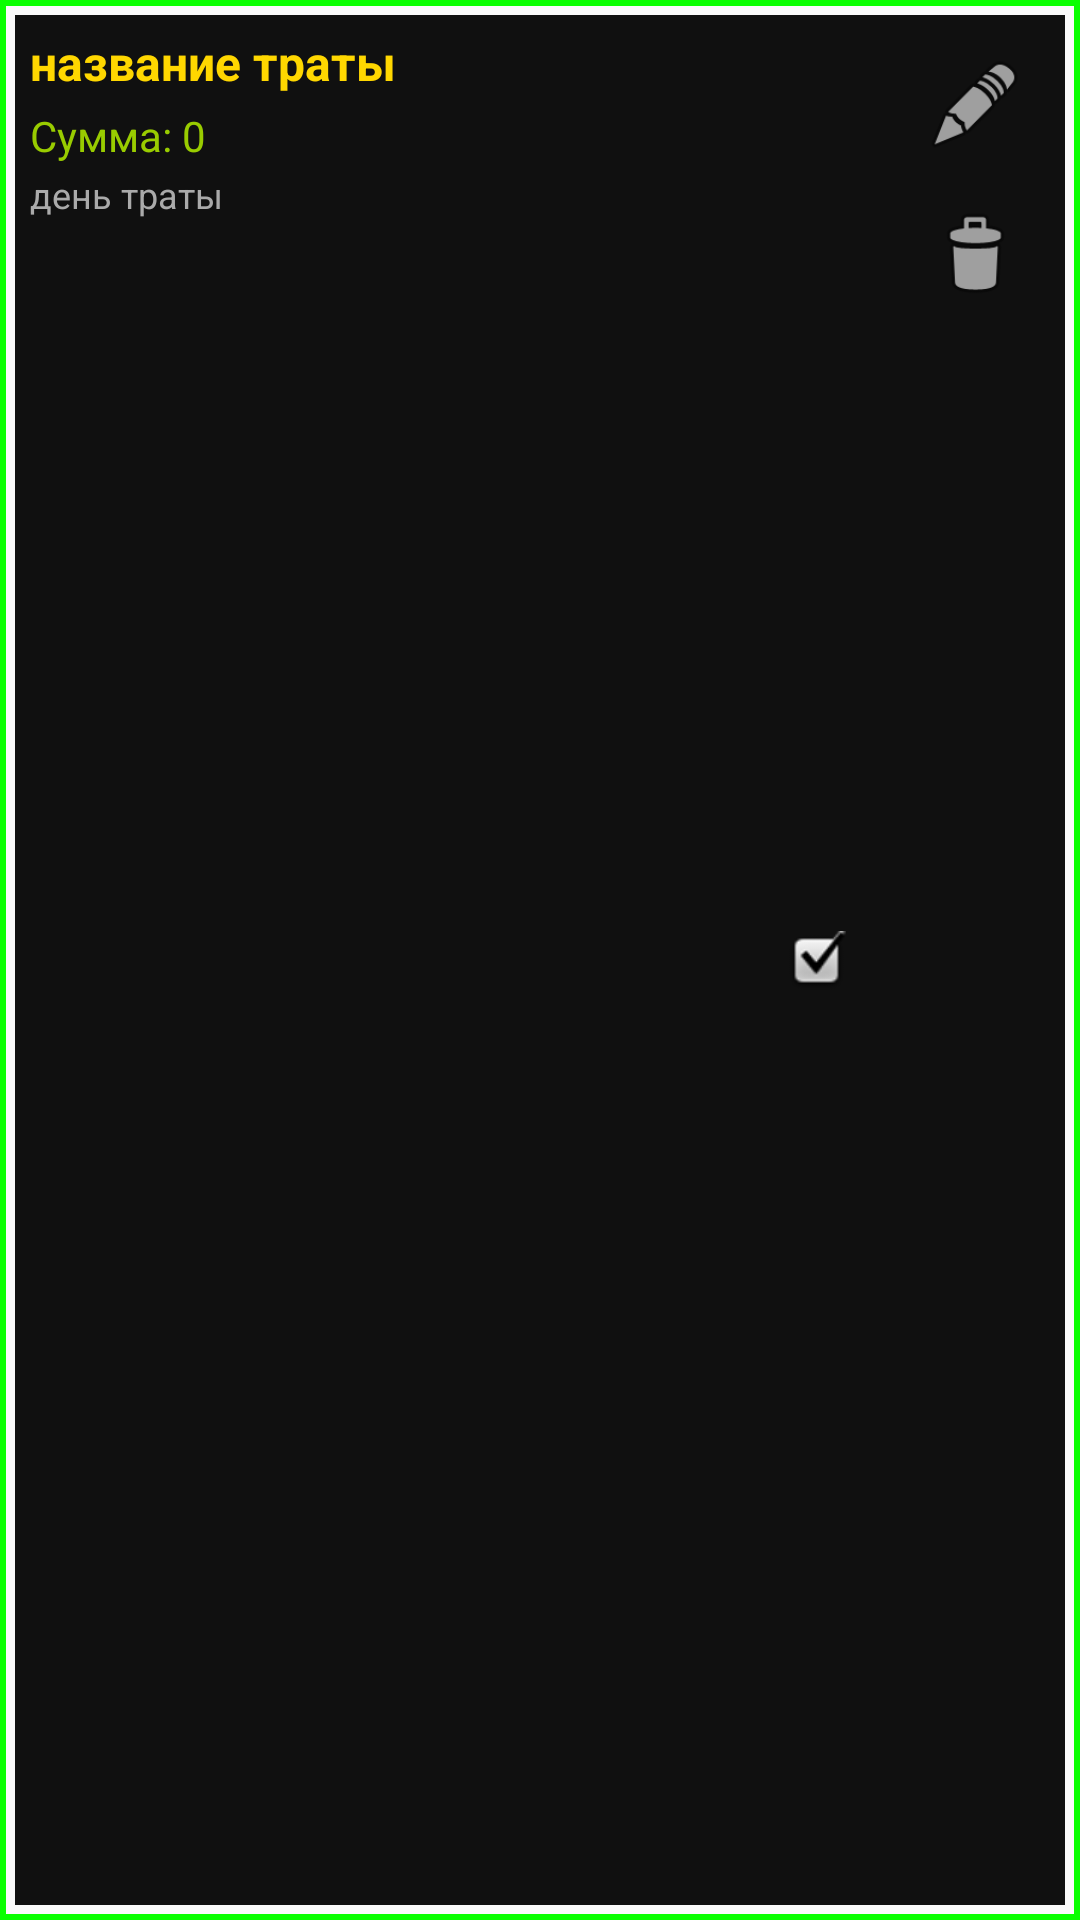

Locate icon controls on the screen. Image size 1080px×1920px, boxes as BBox(x1, y1, x2, y2).
Редактировать: BBox(935, 64, 1015, 144)
Удалить: BBox(950, 217, 1001, 290)
